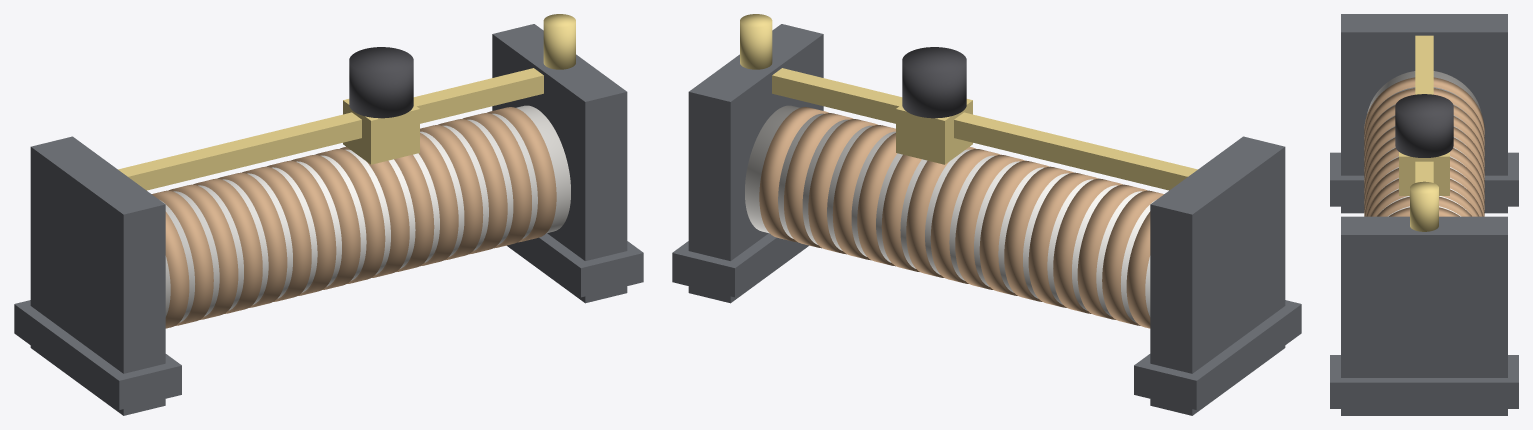
Rendered from rheostat.glb.
3 renders of one model, left to right at view 1: azimuth 30°, elevation 25°; view 2: azimuth 150°, elevation 25°; view 3: azimuth 270°, elevation 25°, orthographic. The views are drawn at different scales.
Visible parts, largest first — view 1: rheostat-bracket-left, rheostat-bracket-right, rheostat-core, rheostat-slider-bar, rheostat-foot-left, rheostat-foot-right, rheostat-slider-knob, rheostat-slider-block, rheostat-coil-2, rheostat-coil-13, rheostat-coil-15, rheostat-coil-4 (+13 smaller); view 2: rheostat-bracket-left, rheostat-bracket-right, rheostat-core, rheostat-slider-bar, rheostat-foot-left, rheostat-foot-right, rheostat-slider-knob, rheostat-slider-block, rheostat-coil-2, rheostat-coil-13, rheostat-coil-15, rheostat-coil-4 (+13 smaller); view 3: rheostat-bracket-right, rheostat-bracket-left, rheostat-foot-right, rheostat-slider-knob, rheostat-foot-left, rheostat-slider-bar, rheostat-term-variable, rheostat-slider-block, rheostat-core, rheostat-coil-0, rheostat-coil-1, rheostat-coil-7 (+10 smaller).
Part boxes in pixels (x1,y1,x2,y2): rheostat-bracket-left: [30, 136, 165, 415]; rheostat-bracket-right: [492, 24, 627, 303]; rheostat-core: [160, 105, 570, 322]; rheostat-slider-bar: [118, 68, 543, 190]; rheostat-foot-left: [14, 300, 181, 409]; rheostat-foot-right: [509, 233, 643, 297]; rheostat-slider-knob: [349, 47, 413, 118]; rheostat-slider-block: [343, 99, 419, 164]; rheostat-coil-2: [168, 184, 238, 319]; rheostat-coil-13: [438, 119, 507, 254]; rheostat-coil-15: [487, 107, 556, 242]; rheostat-coil-4: [217, 172, 287, 307]; rheostat-bracket-left: [1150, 136, 1285, 415]; rheostat-bracket-right: [688, 24, 823, 303]; rheostat-core: [745, 105, 1155, 322]; rheostat-slider-bar: [772, 68, 1197, 190]; rheostat-foot-left: [1134, 300, 1301, 409]; rheostat-foot-right: [672, 233, 806, 297]; rheostat-slider-knob: [902, 47, 966, 118]; rheostat-slider-block: [896, 99, 972, 164]; rheostat-coil-2: [1077, 184, 1147, 319]; rheostat-coil-13: [808, 119, 877, 254]; rheostat-coil-15: [759, 107, 828, 242]; rheostat-coil-4: [1028, 172, 1098, 307]; rheostat-bracket-right: [1341, 216, 1507, 415]; rheostat-bracket-left: [1341, 14, 1507, 213]; rheostat-foot-right: [1330, 355, 1518, 408]; rheostat-slider-knob: [1395, 94, 1453, 157]; rheostat-foot-left: [1330, 152, 1518, 206]; rheostat-slider-bar: [1415, 35, 1433, 182]; rheostat-term-variable: [1410, 181, 1438, 231]; rheostat-slider-block: [1399, 152, 1449, 195]; rheostat-core: [1367, 71, 1481, 216]; rheostat-coil-0: [1364, 77, 1484, 136]; rheostat-coil-1: [1364, 88, 1484, 147]; rheostat-coil-7: [1364, 157, 1484, 211].
Size of the model in its own units: 0.15 by 0.0675 by 0.052.
